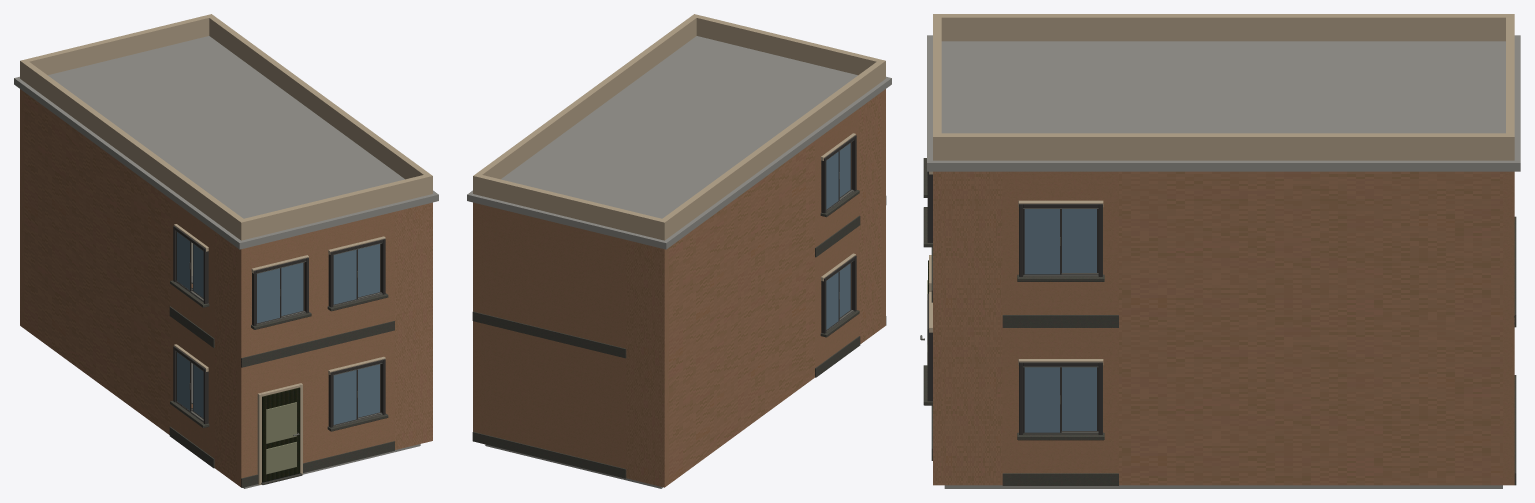
File: MS_PF_02_NarrowTownhouse.glb
The picture shows the model from 3 angles, left to right: view 1: azimuth 30°, elevation 25°; view 2: azimuth 150°, elevation 25°; view 3: azimuth 270°, elevation 25°; orthographic projection. The views are drawn at different scales.
Parts seen in each view (by area): view 1: StaticBatch6, StaticBatch12, StaticBatch2, StaticBatch24, Plaster_005, StaticBatch7, RaisedPanel, StaticBatch3, Leaf_001, Glass_0015, Glass_001, Glass_0014 (+15 smaller); view 2: StaticBatch2, StaticBatch6, StaticBatch12, StaticBatch24, StaticBatch4, StaticBatch8, Frame2, Frame6, StaticBatch7, StaticBatch3, Glass_0012, Glass_0016 (+3 smaller); view 3: StaticBatch2, StaticBatch6, StaticBatch12, StaticBatch24, StaticBatch7, StaticBatch3, Glass_0013, Glass_0017, Glass3, Glass7, StaticBatch10, Frame3 (+1 smaller).
Boxes of the visible parts, x1,y1,x2,y2 form: StaticBatch6: [20, 89, 432, 366]; StaticBatch12: [14, 36, 438, 249]; StaticBatch2: [20, 205, 432, 483]; StaticBatch24: [20, 14, 432, 240]; Plaster_005: [237, 349, 317, 486]; StaticBatch7: [169, 280, 394, 367]; RaisedPanel: [266, 402, 296, 474]; StaticBatch3: [169, 401, 394, 469]; Leaf_001: [262, 387, 300, 482]; Glass_0015: [333, 249, 356, 304]; Glass_001: [333, 370, 356, 424]; Glass_0014: [257, 268, 279, 323]; StaticBatch2: [473, 209, 881, 487]; StaticBatch6: [473, 89, 885, 367]; StaticBatch12: [467, 36, 891, 249]; StaticBatch24: [473, 14, 885, 240]; StaticBatch4: [472, 431, 626, 478]; StaticBatch8: [472, 311, 626, 358]; Frame2: [821, 255, 856, 333]; Frame6: [821, 135, 856, 213]; StaticBatch7: [815, 190, 886, 257]; StaticBatch3: [815, 310, 860, 377]; Glass_0012: [826, 272, 838, 329]; Glass_0016: [826, 152, 838, 209]; StaticBatch2: [933, 327, 1514, 485]; StaticBatch6: [933, 171, 1514, 327]; StaticBatch12: [927, 35, 1520, 171]; StaticBatch24: [933, 14, 1514, 160]; StaticBatch7: [923, 158, 1118, 327]; StaticBatch3: [923, 365, 1118, 485]; Glass_0013: [1024, 367, 1059, 432]; Glass_0017: [1024, 209, 1059, 274]; Glass3: [1062, 367, 1096, 430]; Glass7: [1062, 209, 1096, 272]; StaticBatch10: [944, 485, 1502, 488]; Frame3: [1019, 362, 1102, 434].
Size of the model in its own units: 5.32 by 6.77 by 10.32.
20 materials, 5 textured.
